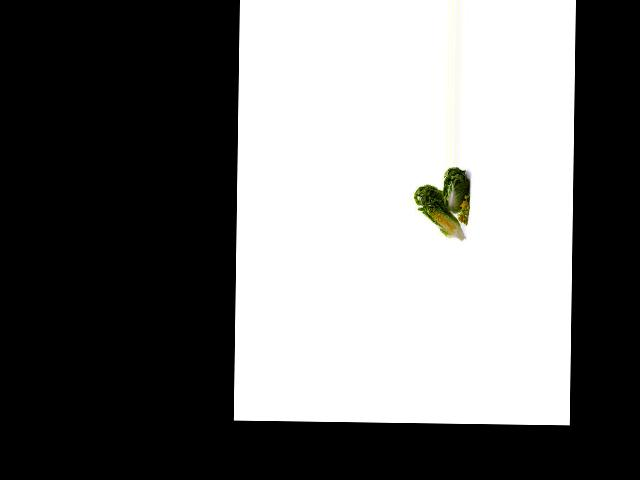lettuce: (440, 168, 472, 219)
